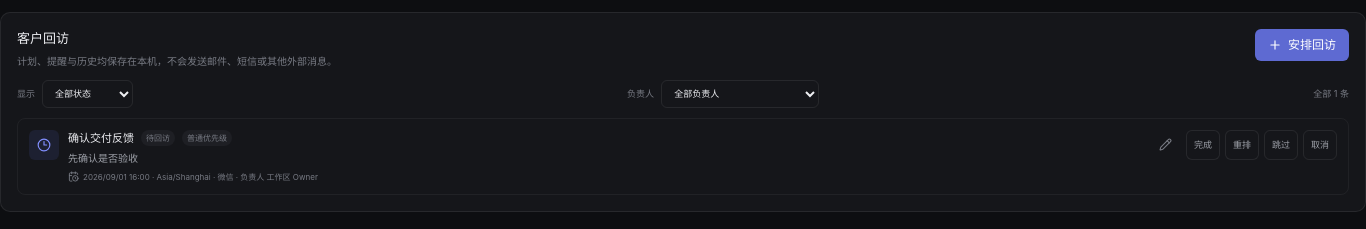
Test case: ClientFollowupsSection › filters the client timeline through the service-derived overdue query
The image size is (1366, 229).
Select "仅已逾期" in the dropdown named "回访状态筛选" at (88, 94), box [42,80,133,108]
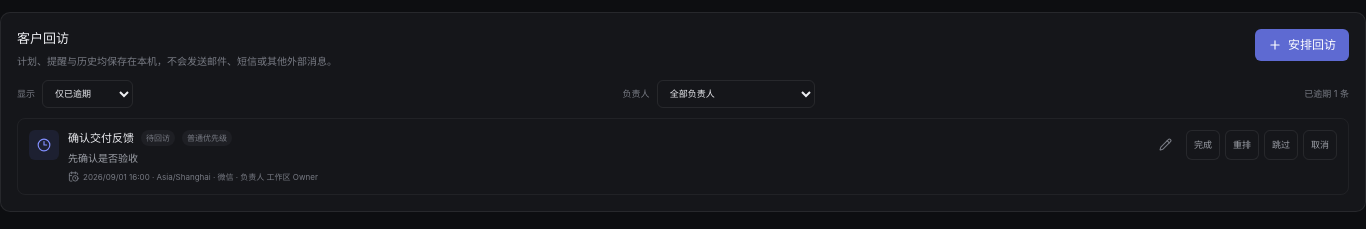
Now the text "已逾期 1 条" is shown, box [1304,87,1349,100]
